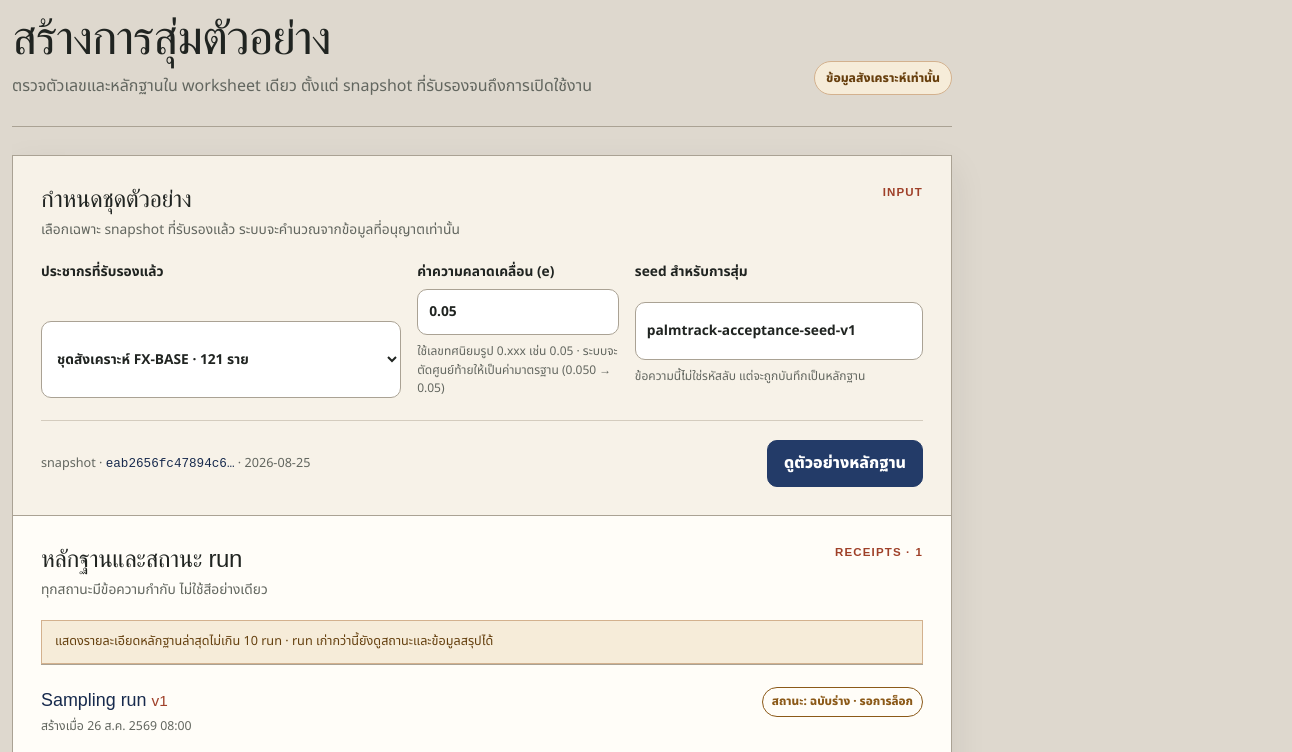
Test: SamplingWorkbench › exposes all allocation fields as labeled cells and a stable receipt hook
Click the button "ดูตัวอย่างหลักฐาน" at (845, 463), box [767, 440, 923, 487]
(page scrolled)
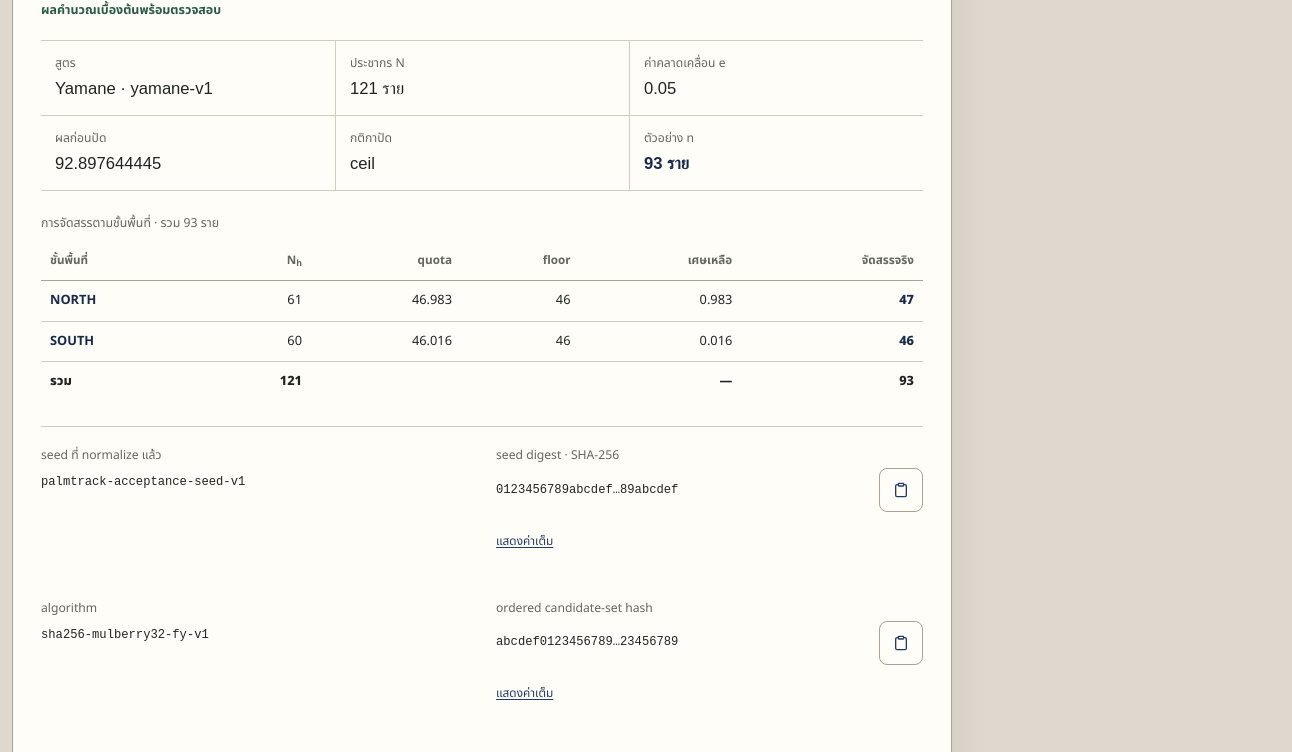
Check: the table is shown, box [41, 214, 923, 402]
Check: the text "การจัดสรรตามชั้นพื้นที่ · รวม 93 ราย" is shown, box [41, 214, 219, 233]
Check: the cell "93" is shown, box [741, 362, 923, 402]
